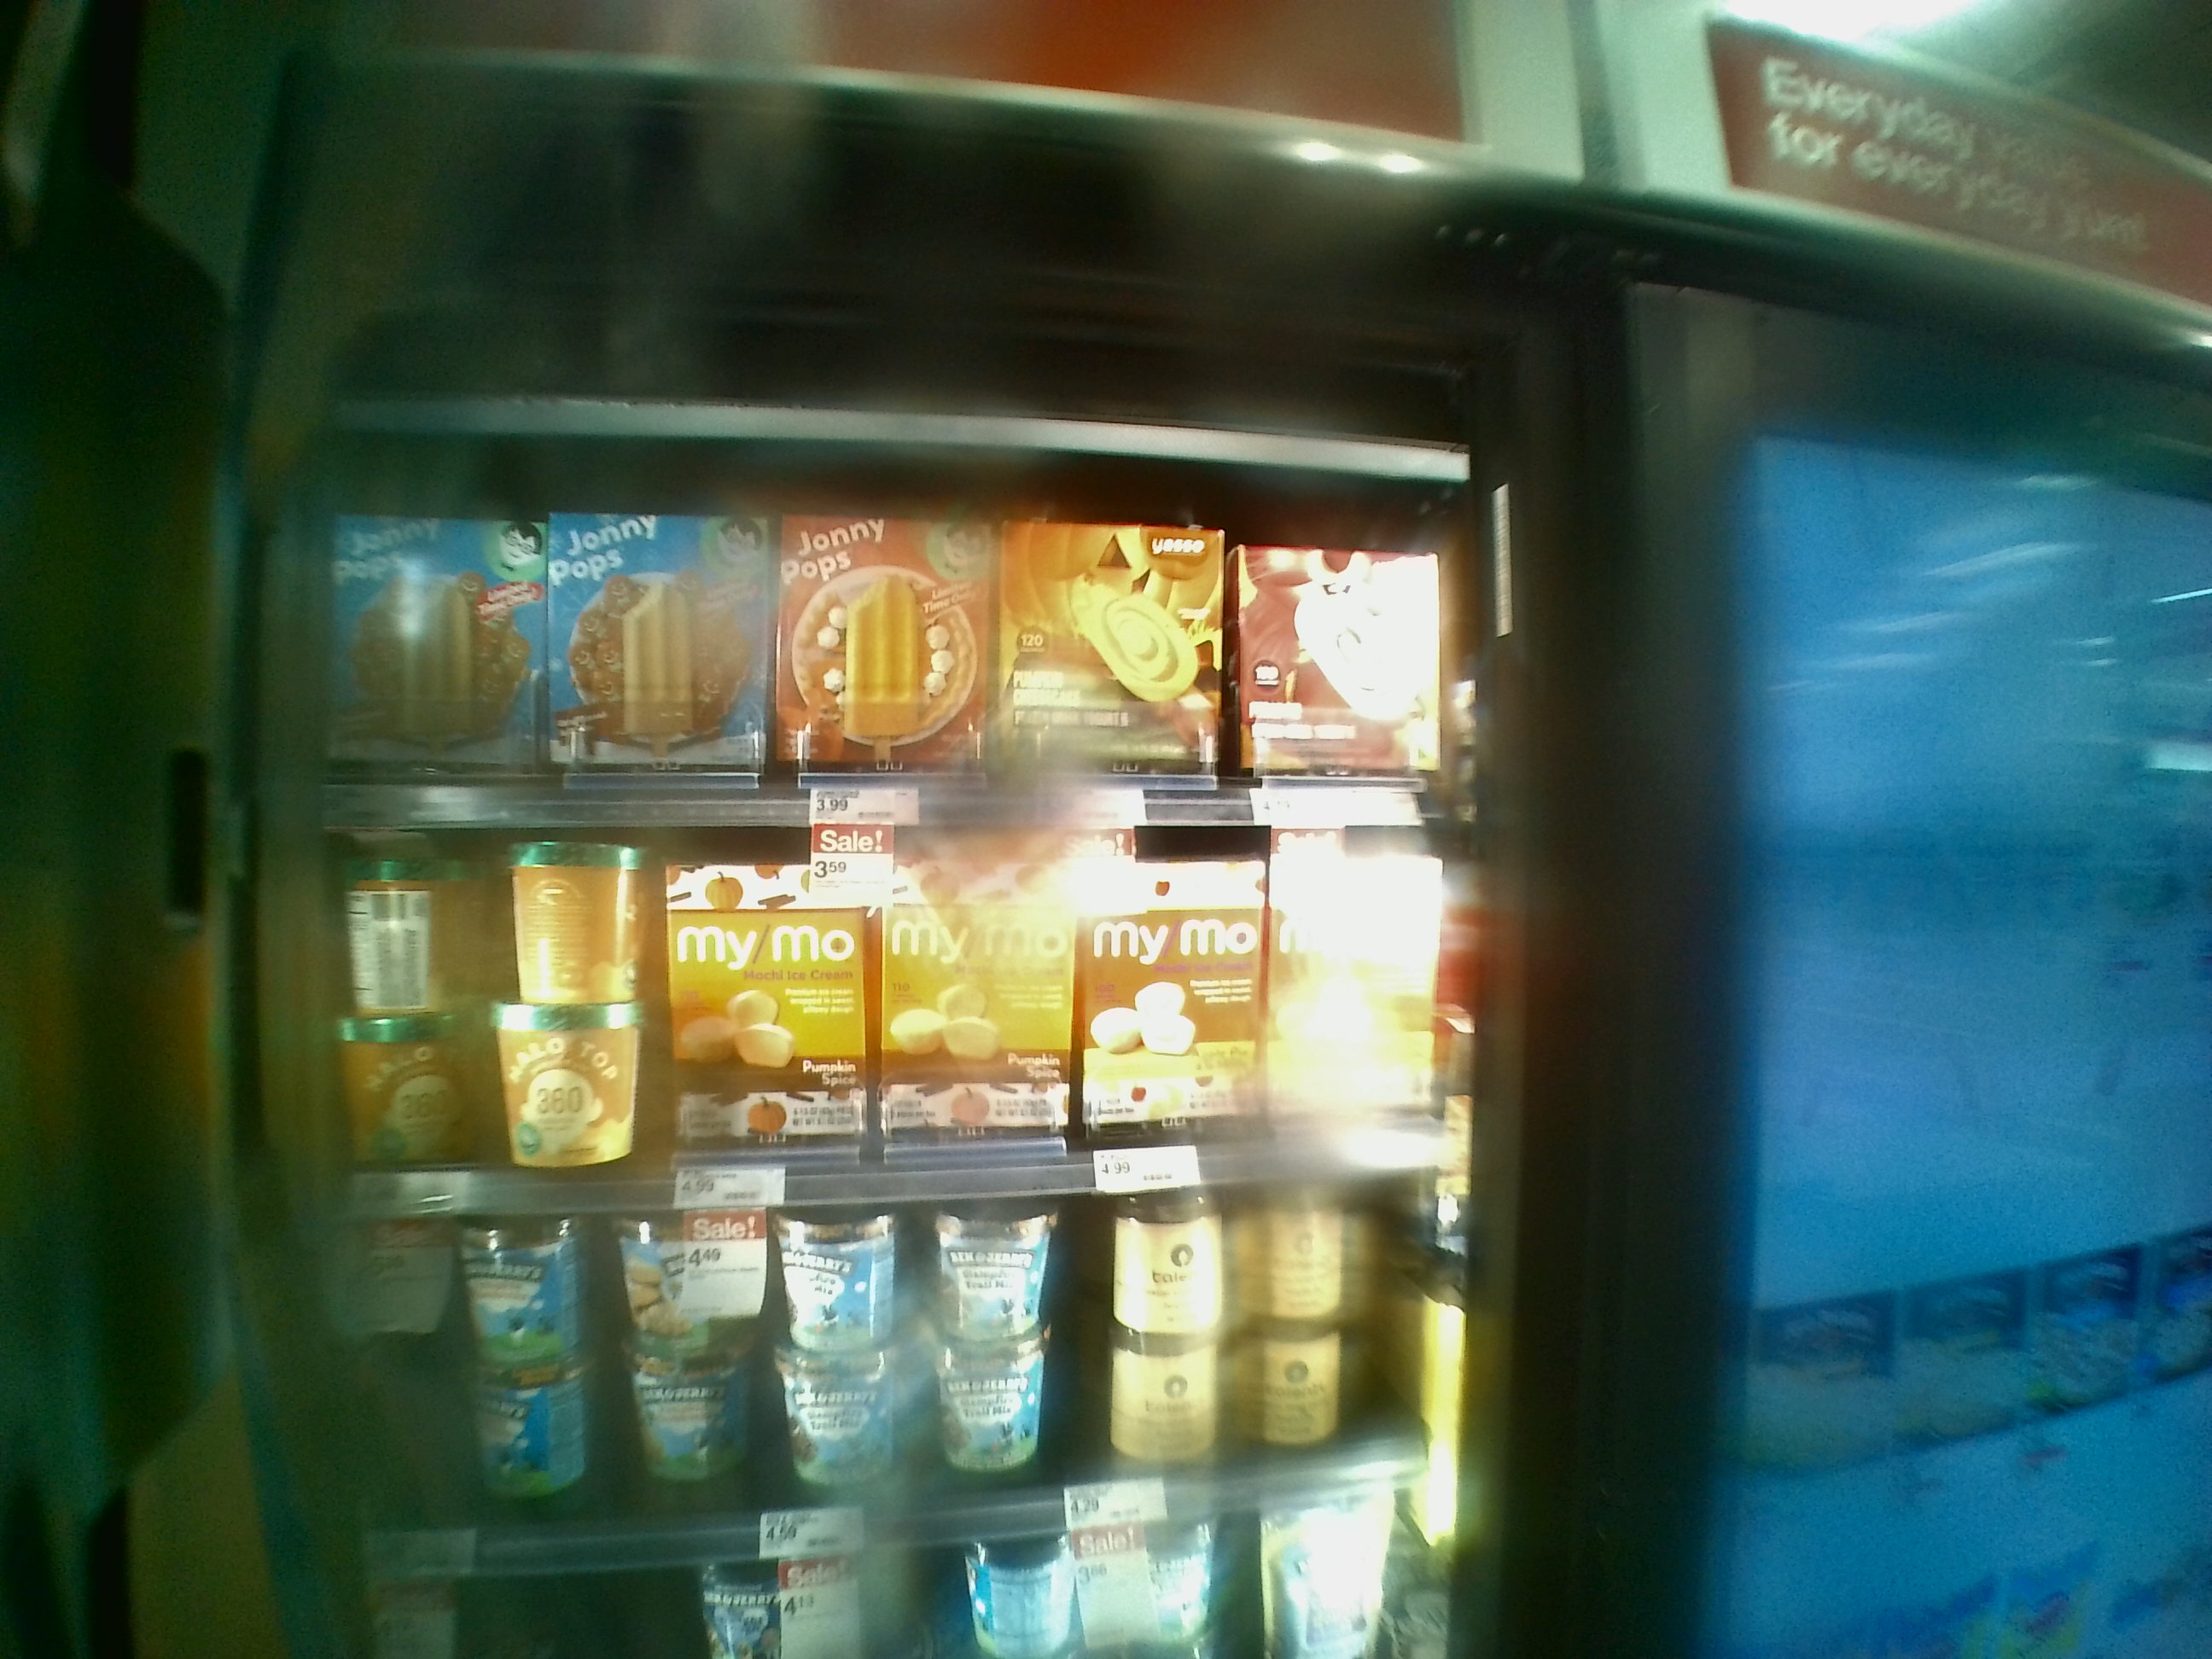shelf: (260, 443, 1468, 838), (244, 835, 1468, 1192), (247, 1204, 1465, 1532)
